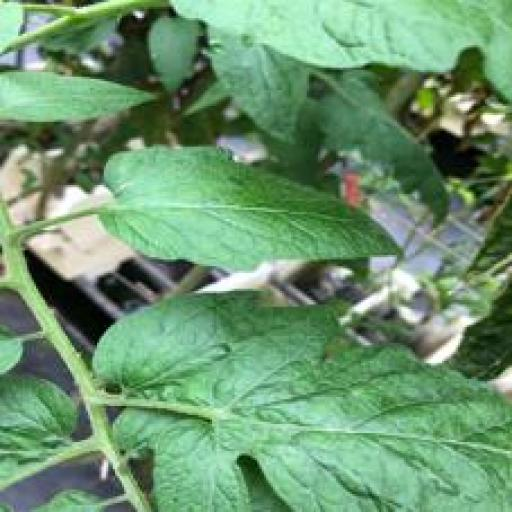Healthy: (96, 289, 512, 512), (96, 144, 408, 273), (0, 69, 158, 125)
